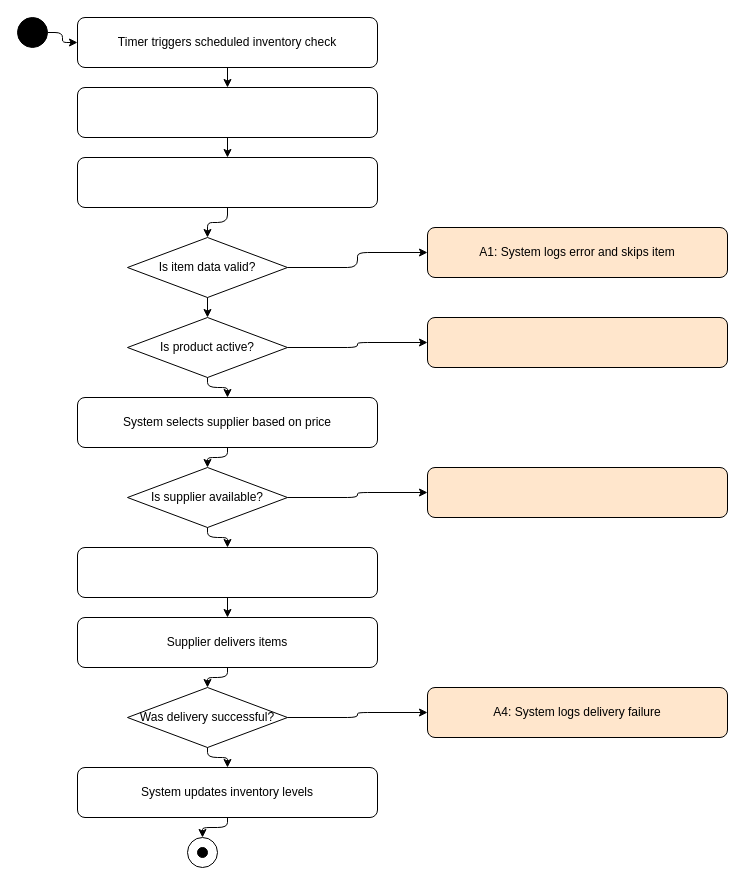
Some shapes in this 745 by 885 pixel diagram are drawn without their labels. Here are the shapes that lost their labels. From the top down, the centre of each, then its label:
(227,112): System checks inventory levels
(227,182): System identifies low-stock item
(577,342): A2: System flags product as discontinued
(577,492): A3: System flags item for manual intervention
(227,572): System sends order to supplier
